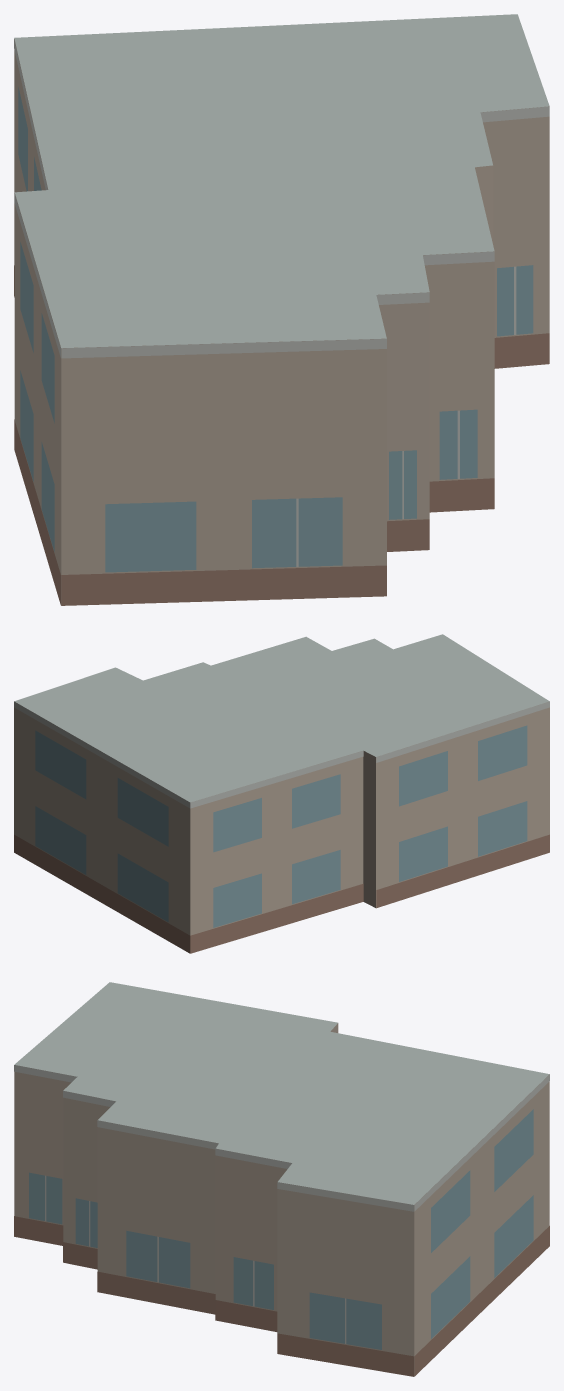
File: survey-upis-32951001.glb
The picture shows the model from 3 angles, top to bottom: view 1: azimuth 30°, elevation 25°; view 2: azimuth 150°, elevation 25°; view 3: azimuth 270°, elevation 25°; orthographic projection. The views are drawn at different scales.
Visible parts, largest first — view 1: survey-upis-32951001.tmp; view 2: survey-upis-32951001.tmp; view 3: survey-upis-32951001.tmp.
Boxes of the visible parts, x1,y1,x2,y2 form: survey-upis-32951001.tmp: (14,14,549,605); survey-upis-32951001.tmp: (14,634,549,953); survey-upis-32951001.tmp: (14,982,549,1376).
Size of the model in its own units: 16.98 by 6.1 by 17.24.
